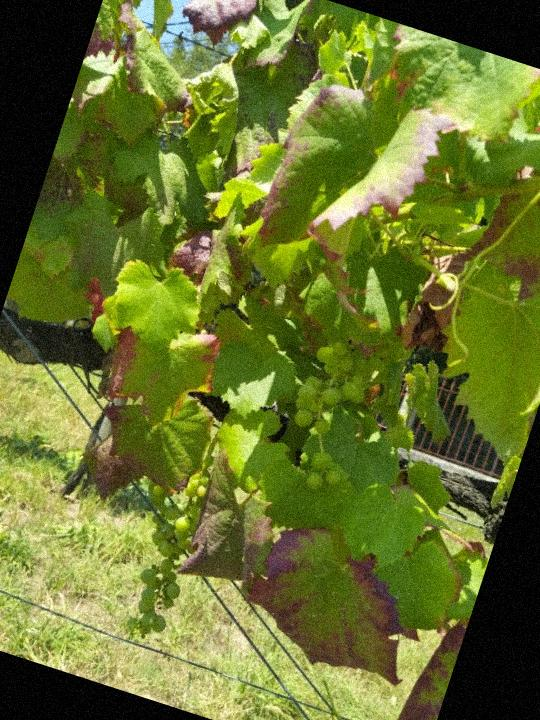grape: (95, 455, 229, 653), (263, 332, 385, 502)
